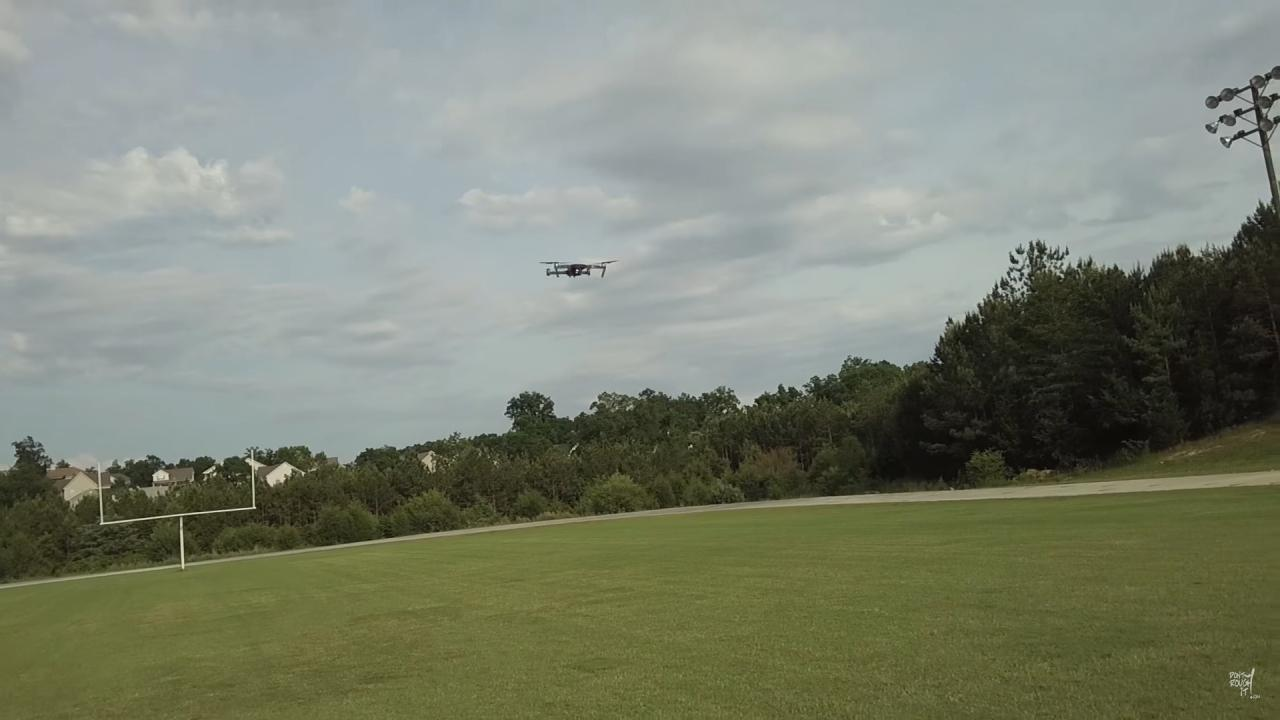Drone: (534, 250, 627, 288)
